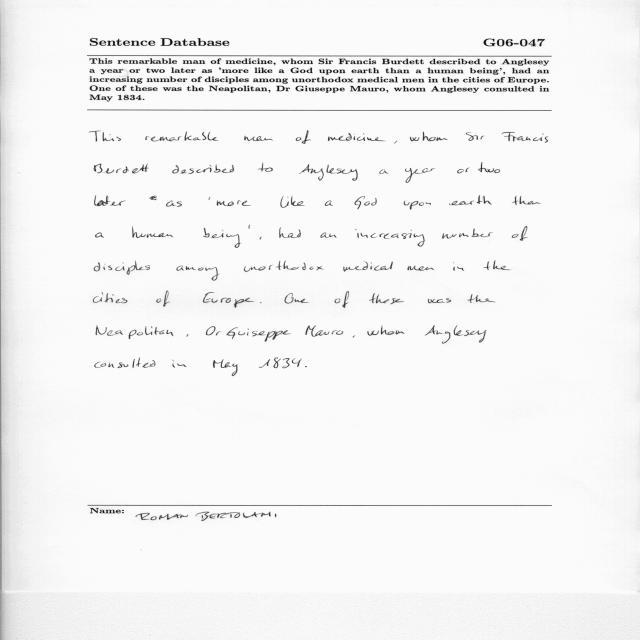word: (355, 229, 425, 247), (425, 326, 486, 344), (96, 326, 174, 339), (299, 164, 358, 181), (226, 327, 291, 342), (244, 261, 324, 272), (94, 260, 150, 275), (203, 292, 254, 308), (145, 131, 219, 142), (203, 228, 241, 248), (177, 266, 220, 281), (172, 164, 234, 174), (95, 358, 155, 368), (442, 228, 493, 239), (94, 164, 149, 174), (502, 132, 548, 143), (343, 262, 393, 272), (132, 226, 173, 238), (328, 133, 385, 141), (405, 168, 435, 183), (449, 196, 492, 206), (259, 358, 302, 368), (213, 359, 238, 376), (306, 326, 344, 337), (368, 325, 405, 336), (149, 195, 182, 207), (93, 292, 128, 303), (369, 293, 404, 304), (410, 132, 448, 142), (89, 131, 121, 142), (280, 195, 305, 208), (95, 196, 126, 206), (354, 196, 377, 209), (512, 196, 541, 205), (483, 261, 511, 270), (468, 294, 496, 303), (404, 201, 431, 210), (512, 226, 528, 241), (285, 293, 309, 303), (335, 291, 349, 308), (156, 291, 170, 307), (478, 163, 500, 173), (279, 228, 301, 238), (296, 130, 311, 144), (217, 201, 251, 207), (466, 132, 484, 141), (244, 136, 273, 141), (258, 163, 273, 172), (408, 266, 435, 271), (206, 327, 221, 336), (172, 360, 187, 368), (428, 298, 451, 303), (454, 262, 465, 271), (320, 233, 337, 238), (457, 168, 470, 174), (379, 169, 389, 174), (325, 200, 333, 206), (96, 233, 104, 238), (395, 141, 398, 144), (248, 225, 250, 229), (260, 236, 262, 240), (187, 334, 189, 337), (353, 335, 355, 338), (209, 197, 210, 200), (260, 302, 262, 303), (305, 366, 307, 367)
